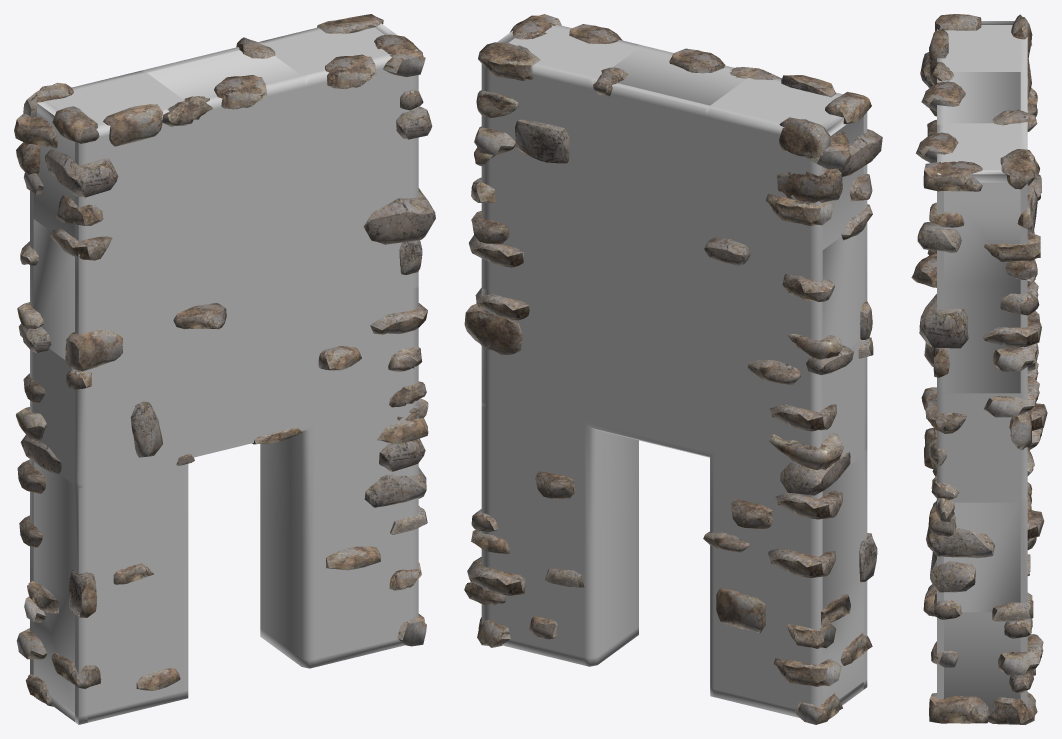
File: SM_Wall10.FBX
3 views of the same model, side by side, from view 1: azimuth 30°, elevation 25°; view 2: azimuth 150°, elevation 25°; view 3: azimuth 270°, elevation 25° (orthographic). The views are drawn at different scales.
Visible parts, largest first — view 1: SM_Wall10; view 2: SM_Wall10; view 3: SM_Wall10.
Boxes of the visible parts, x1,y1,x2,y2 form: SM_Wall10: [14, 14, 435, 724]; SM_Wall10: [464, 14, 882, 724]; SM_Wall10: [911, 14, 1047, 724].
Bounding box in the file's own units: 675 × 226 × 1023.
